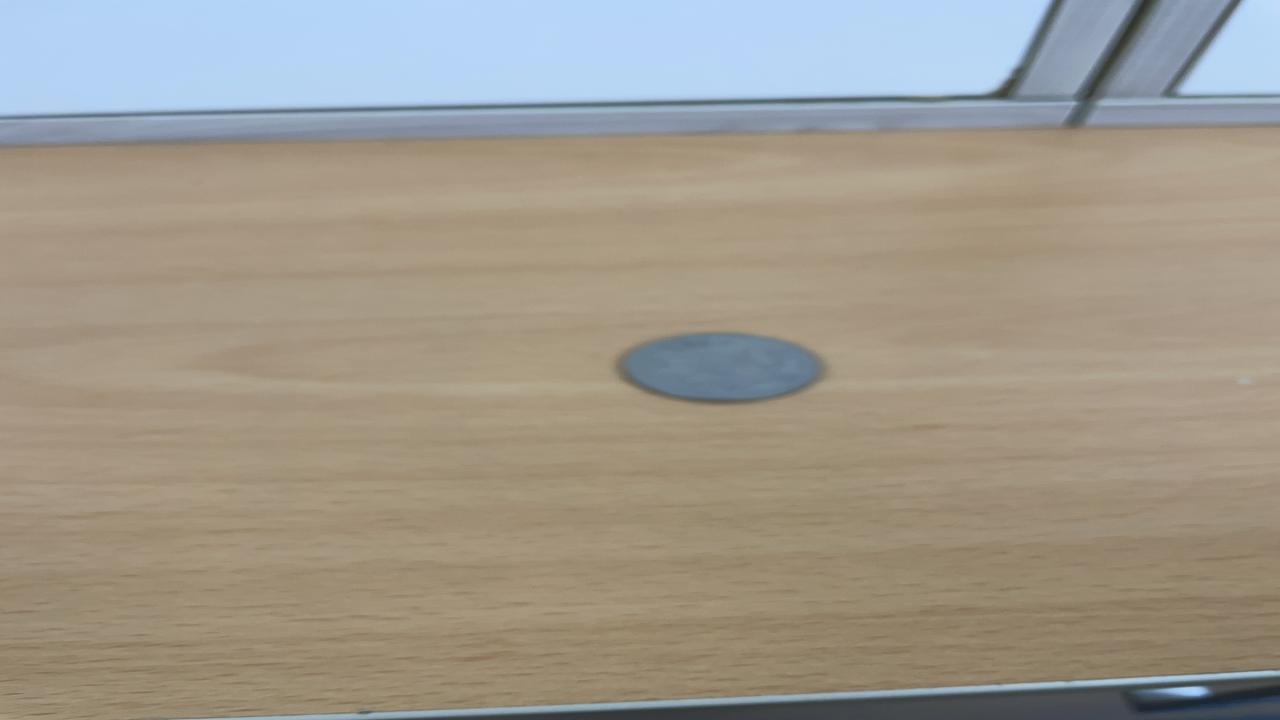coin: (614, 329, 829, 404)
